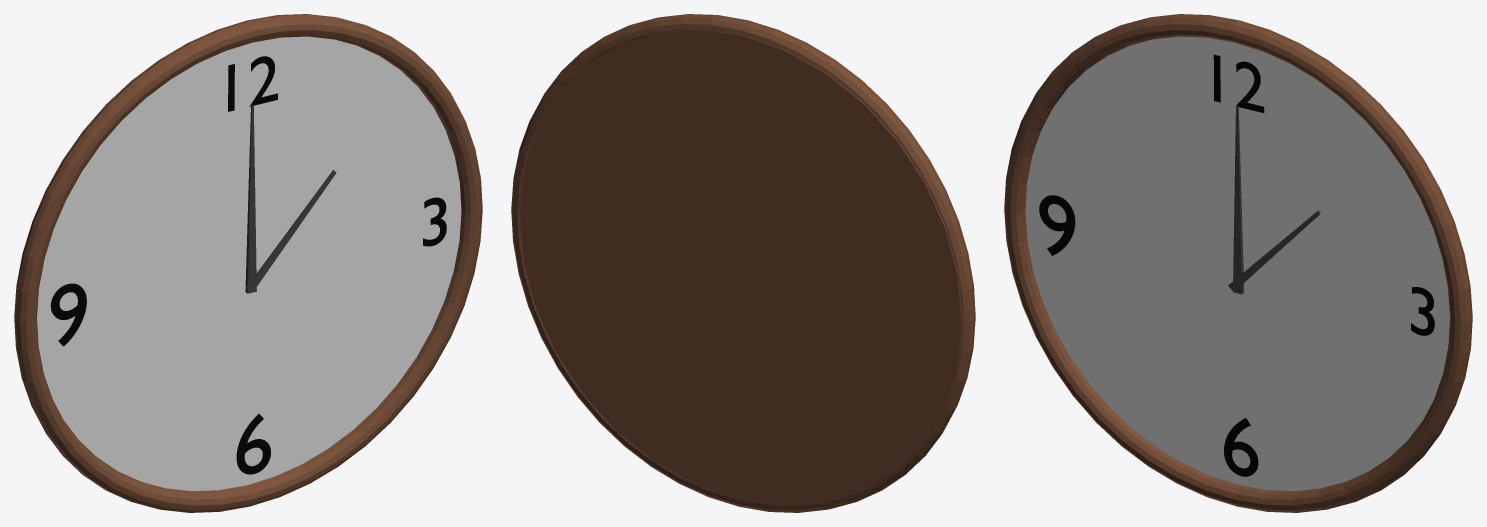
Rendered from wath.fbx.
The picture shows the model from 3 angles, left to right: view 1: azimuth 30°, elevation 25°; view 2: azimuth 150°, elevation 25°; view 3: azimuth 330°, elevation 25°; orthographic projection.
Visible parts, largest first — view 1: 円柱; view 2: 円柱; view 3: 円柱.
Part boxes in pixels (x1,y1,x2,y2): 円柱: (14, 14, 482, 512); 円柱: (511, 14, 975, 512); 円柱: (1004, 14, 1472, 512).
Bounding box in the file's own units: 209 × 209 × 11.54.
